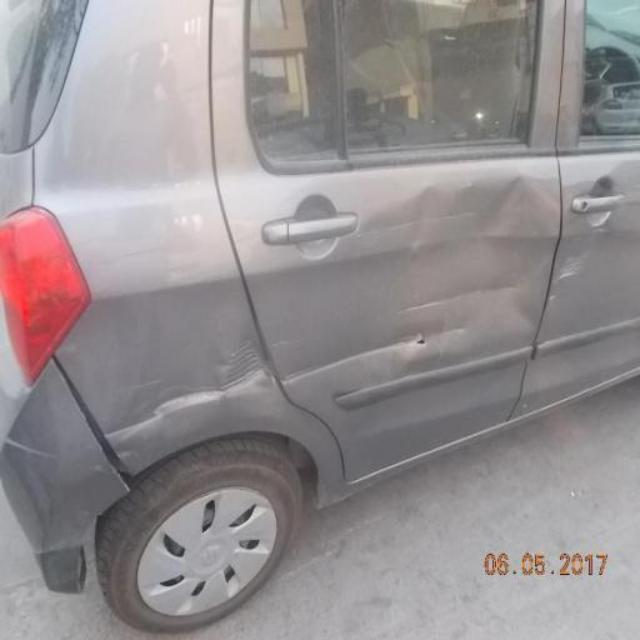crack: (51, 353, 135, 498)
dent: (362, 181, 558, 341)
rub: (223, 337, 278, 402), (551, 252, 592, 283)
scratch: (104, 365, 282, 445), (279, 319, 469, 389), (394, 278, 524, 324), (360, 204, 485, 244), (3, 434, 59, 465), (269, 334, 303, 353), (547, 290, 559, 308), (414, 335, 427, 348)
